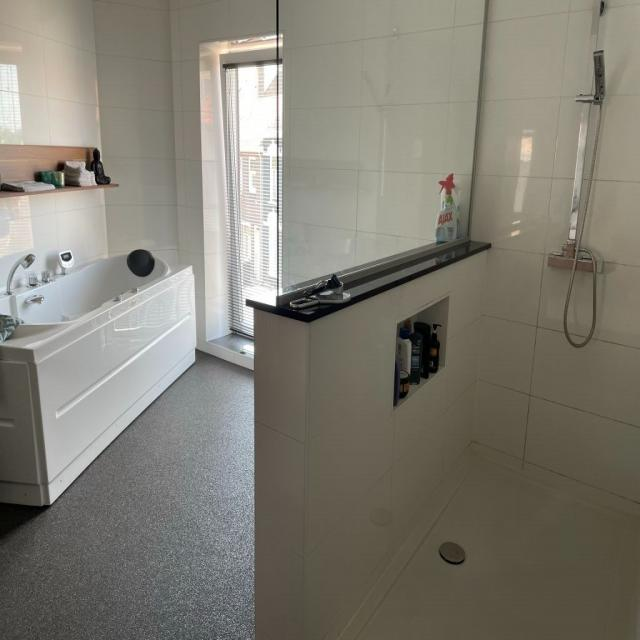bath: (0, 250, 193, 362)
douche: (245, 0, 640, 640)
